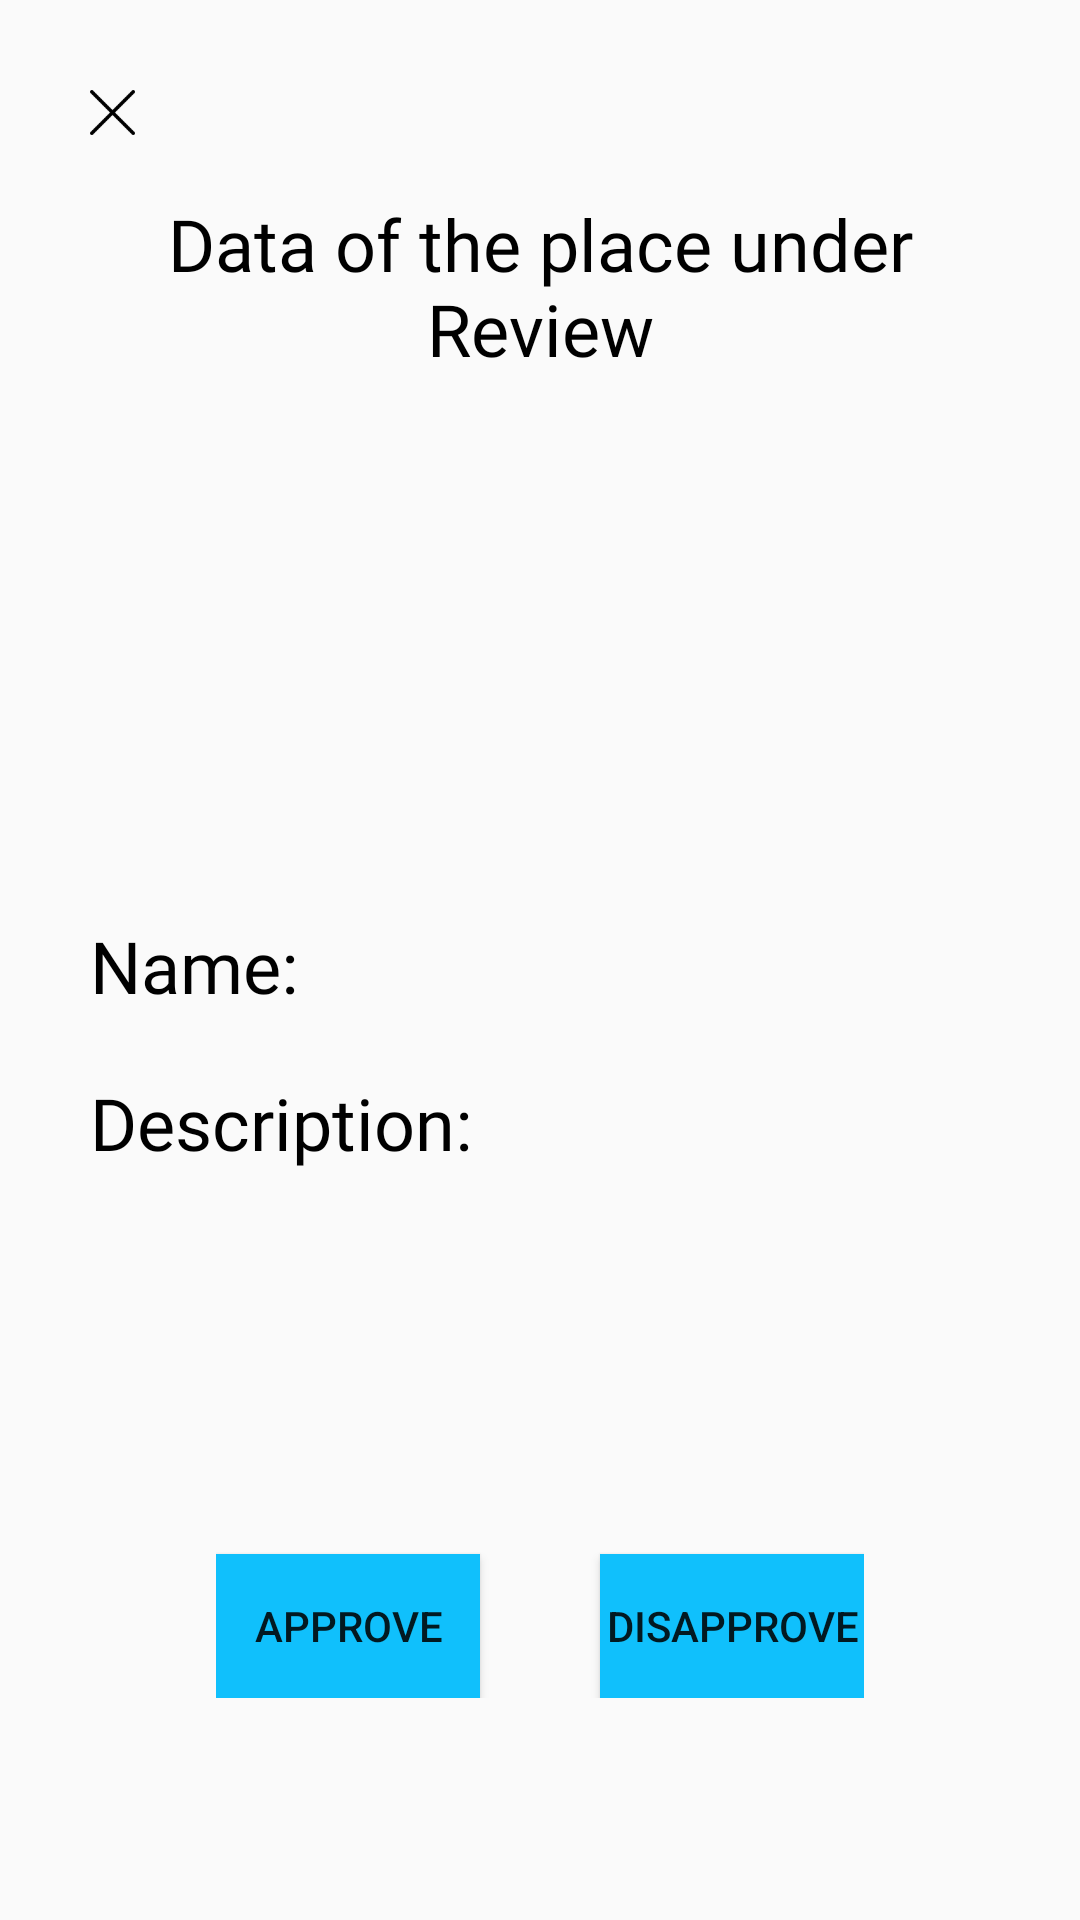

Icon click points for this 1080w x 1920h phone screenshot, format (x,y):
cancel: (112,112)
